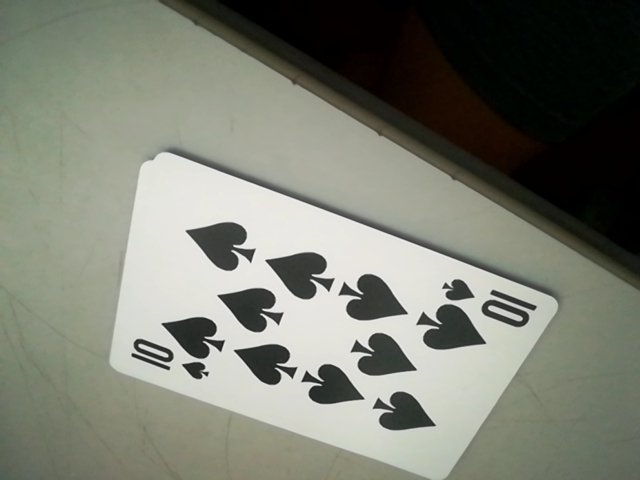ht 10: (120, 337, 219, 384)
